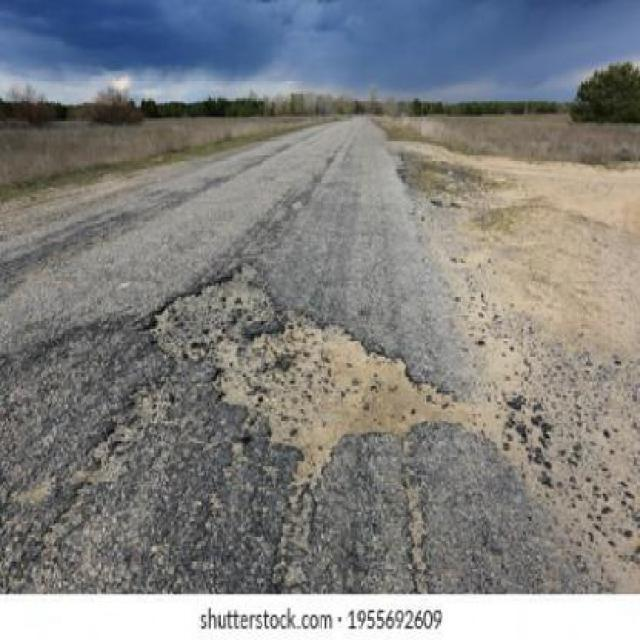Buraco: (132, 258, 471, 498)
